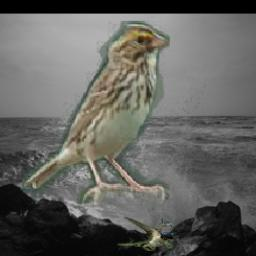Sparrow: (23, 21, 171, 205)
Swallow: (118, 215, 173, 251)
